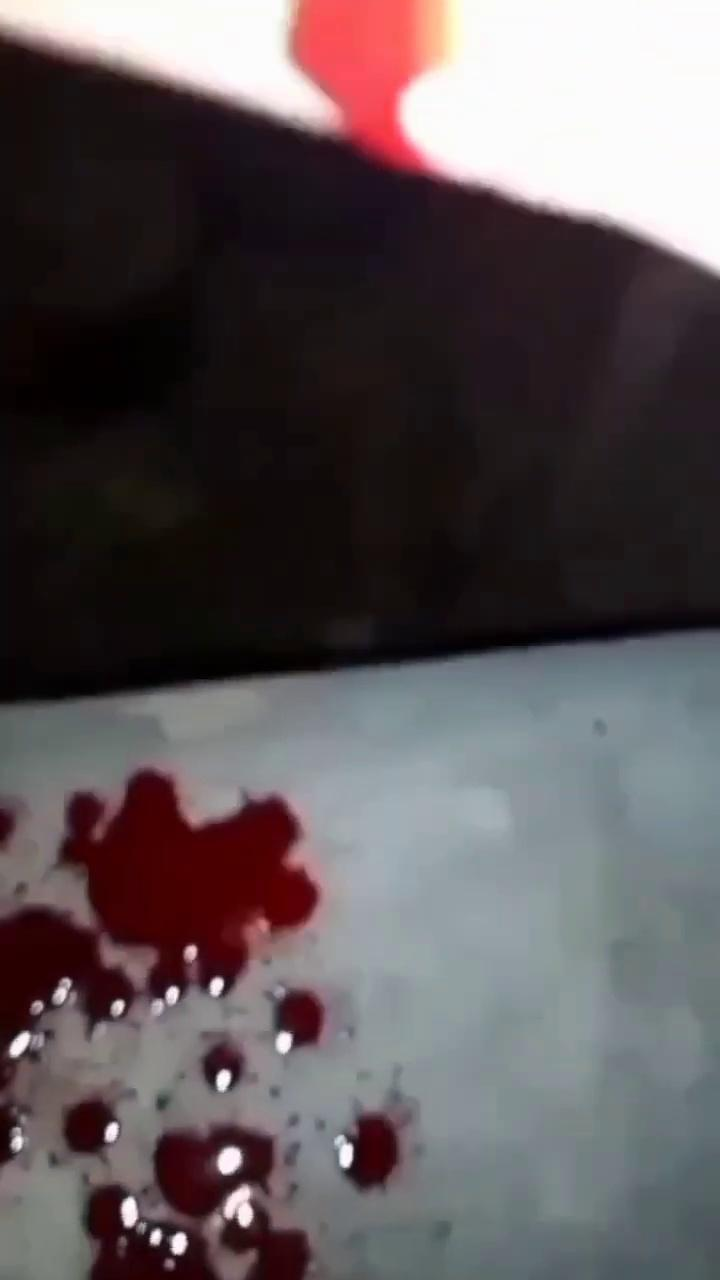Fire: (55, 772, 316, 1000), (0, 895, 133, 1170), (86, 1133, 309, 1280), (333, 1098, 417, 1191), (63, 1103, 121, 1159), (275, 992, 322, 1058), (201, 1043, 244, 1102), (0, 793, 32, 868)
